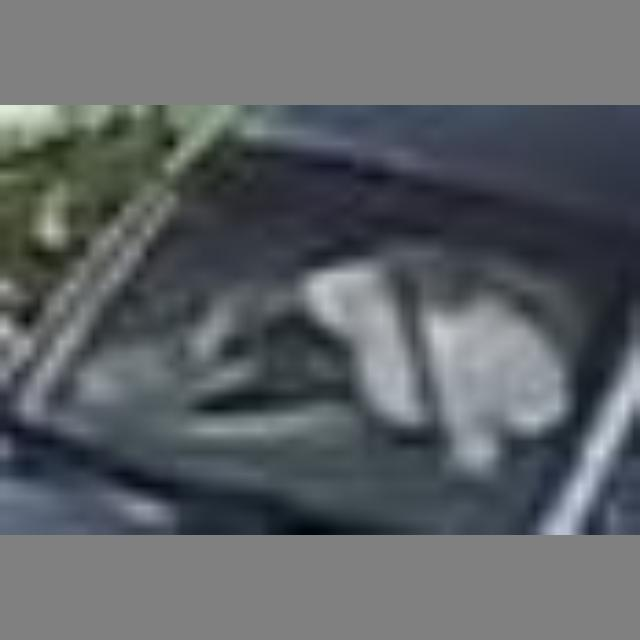pakai: (232, 248, 541, 469)
